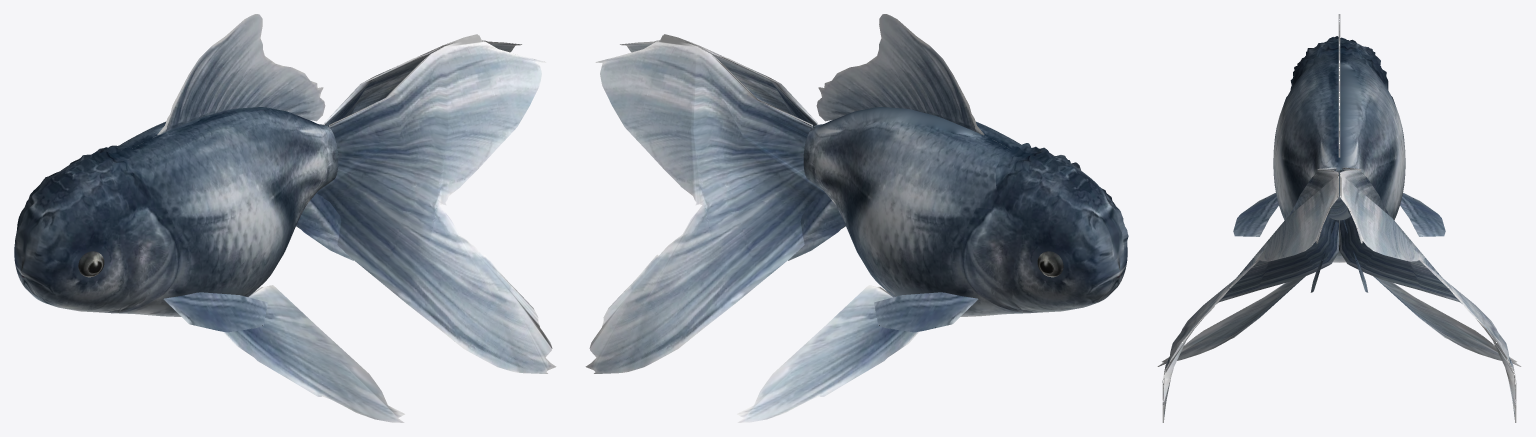
The model's file is seibungyo.glb.
3 renders of one model, left to right at view 1: azimuth 30°, elevation 25°; view 2: azimuth 150°, elevation 25°; view 3: azimuth 270°, elevation 25°, orthographic. The views are drawn at different scales.
Visible parts, largest first — view 1: caudal_near, body, wen, dorsal, pelvic_near, pectoral_near, gill_near, caudal_far, anal_near, eye_near; view 2: caudal_far, body, wen, dorsal, pelvic_far, pectoral_far, gill_far, caudal_near, anal_far, eye_far; view 3: body, caudal_near, caudal_far, pelvic_near, pelvic_far, wen, pectoral_near, pectoral_far, dorsal.
Boxes of the visible parts, x1,y1,x2,y2 form: caudal_near: (317, 35, 556, 373); body: (14, 107, 338, 316); wen: (15, 145, 146, 263); dorsal: (157, 14, 325, 135); pelvic_near: (223, 285, 404, 422); pectoral_near: (163, 292, 267, 332); gill_near: (103, 208, 179, 312); caudal_far: (324, 34, 521, 126); anal_near: (297, 192, 353, 260); eye_near: (78, 251, 104, 277); caudal_far: (585, 35, 824, 373); body: (803, 107, 1127, 316); wen: (995, 143, 1128, 263); dorsal: (816, 14, 984, 135); pelvic_far: (737, 285, 918, 422); pectoral_far: (874, 292, 978, 332); gill_far: (962, 208, 1038, 312); caudal_near: (620, 34, 817, 126); anal_far: (788, 192, 844, 260); eye_far: (1037, 251, 1063, 277); body: (1273, 57, 1405, 262); caudal_near: (1162, 167, 1338, 422); caudal_far: (1340, 167, 1516, 422); pelvic_near: (1157, 276, 1305, 366); pelvic_far: (1373, 276, 1521, 366); wen: (1290, 36, 1388, 89); pectoral_near: (1233, 193, 1278, 236); pectoral_far: (1400, 193, 1445, 236); dorsal: (1338, 14, 1340, 157).
Bounding box in the file's own units: 0.15 × 0.0982 × 0.0989.
Materials: 1 (1 with a texture image).
